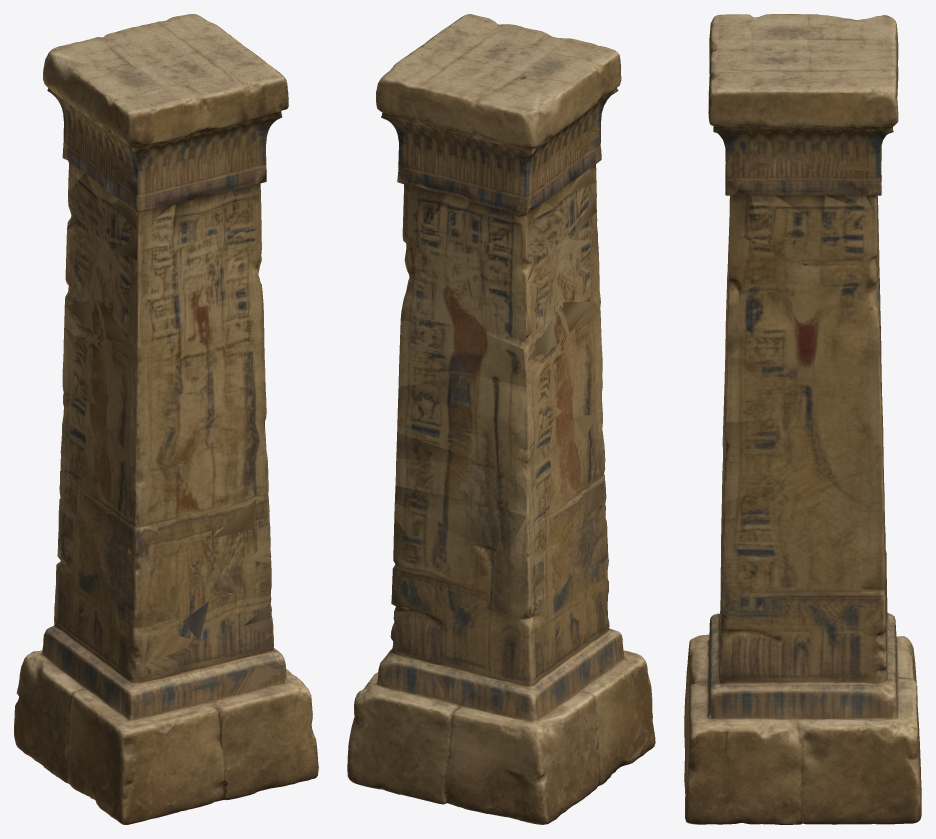
The model's file is pillar_square_glyph.glb.
The picture shows the model from 3 angles, left to right: view 1: azimuth 30°, elevation 25°; view 2: azimuth 150°, elevation 25°; view 3: azimuth 270°, elevation 25°; orthographic projection. The views are drawn at different scales.
Visible parts, largest first — view 1: prop; view 2: prop; view 3: prop.
Boxes of the visible parts, left/top/right/bottom form: prop: left=14, top=14, right=318, bottom=824; prop: left=347, top=14, right=655, bottom=824; prop: left=684, top=14, right=921, bottom=824.
Bounding box in the file's own units: 1.48 × 5 × 1.49.
Materials: 1 (1 with a texture image).
